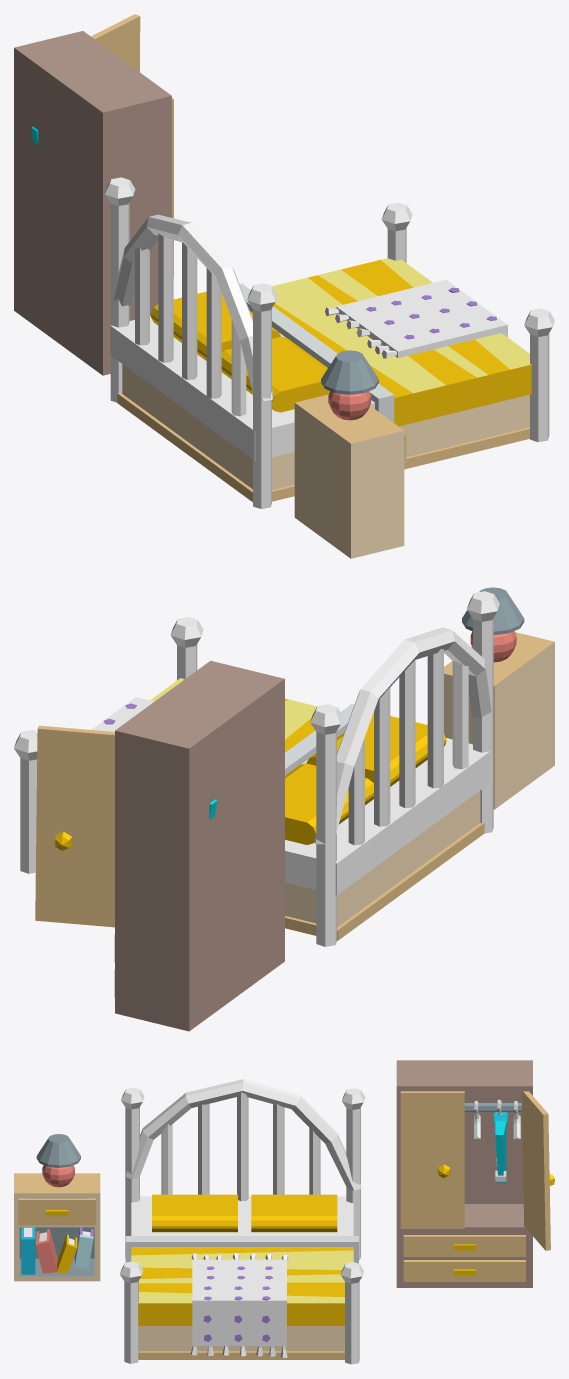
Rendered from bedroom.fbx.
The picture shows the model from 3 angles, top to bottom: view 1: azimuth 30°, elevation 25°; view 2: azimuth 150°, elevation 25°; view 3: azimuth 270°, elevation 25°; orthographic projection. The views are drawn at different scales.
Parts seen in each view (by area): view 1: group1099855414, group1746956383, group1792502002, group1974525828, group1779594578, group53819858, group29848447, group1026755034, group796940361, group2076333141, group518202975, group738298667 (+11 smaller); view 2: group1099855414, group776681709, group1746956383, group1792502002, group53819858, group1974525828, group2076333141, group29848447, group1948111454, group1026755034, group1774143485, group1534603111 (+10 smaller); view 3: group1099855414, group1746956383, group492854331, group1779594578, group1792502002, group53819858, group776681709, group1948111454, group796940361, group1974525828, group738298667, group1226844663 (+21 smaller).
Part boxes in pixels (box(x1,y1,x2,y2)): group1099855414: box(14, 31, 171, 375); group1746956383: box(110, 258, 531, 461); group1792502002: box(294, 394, 404, 558); group1974525828: box(122, 364, 529, 489); group1779594578: box(336, 280, 507, 357); group53819858: box(113, 214, 273, 401); group29848447: box(247, 283, 277, 508); group1026755034: box(117, 393, 529, 501); group796940361: box(221, 336, 329, 412); group2076333141: box(104, 177, 135, 402); group518202975: box(524, 308, 554, 442); group738298667: box(239, 283, 394, 422); group1099855414: box(115, 660, 284, 1031); group776681709: box(35, 725, 114, 927); group1746956383: box(150, 678, 492, 895); group1792502002: box(444, 632, 554, 809); group53819858: box(314, 627, 491, 844); group1974525828: box(285, 791, 480, 927); group2076333141: box(310, 704, 342, 946); group29848447: box(467, 591, 499, 833); group1948111454: box(285, 763, 373, 844); group1026755034: box(285, 823, 484, 940); group1774143485: box(14, 730, 37, 873); group1534603111: box(399, 660, 415, 807); group1099855414: box(396, 1060, 532, 1287); group1746956383: box(131, 1196, 353, 1325); group492854331: box(400, 1091, 464, 1228); group1779594578: box(192, 1259, 286, 1345); group1792502002: box(14, 1173, 100, 1281); group53819858: box(125, 1079, 361, 1190); group776681709: box(521, 1091, 554, 1250); group1948111454: box(251, 1194, 337, 1232); group796940361: box(152, 1194, 237, 1232); group1974525828: box(139, 1326, 344, 1351); group738298667: box(125, 1236, 358, 1263); group1226844663: box(403, 1235, 525, 1256).
Bounding box in the file's own units: 97.53 × 80 × 195.
